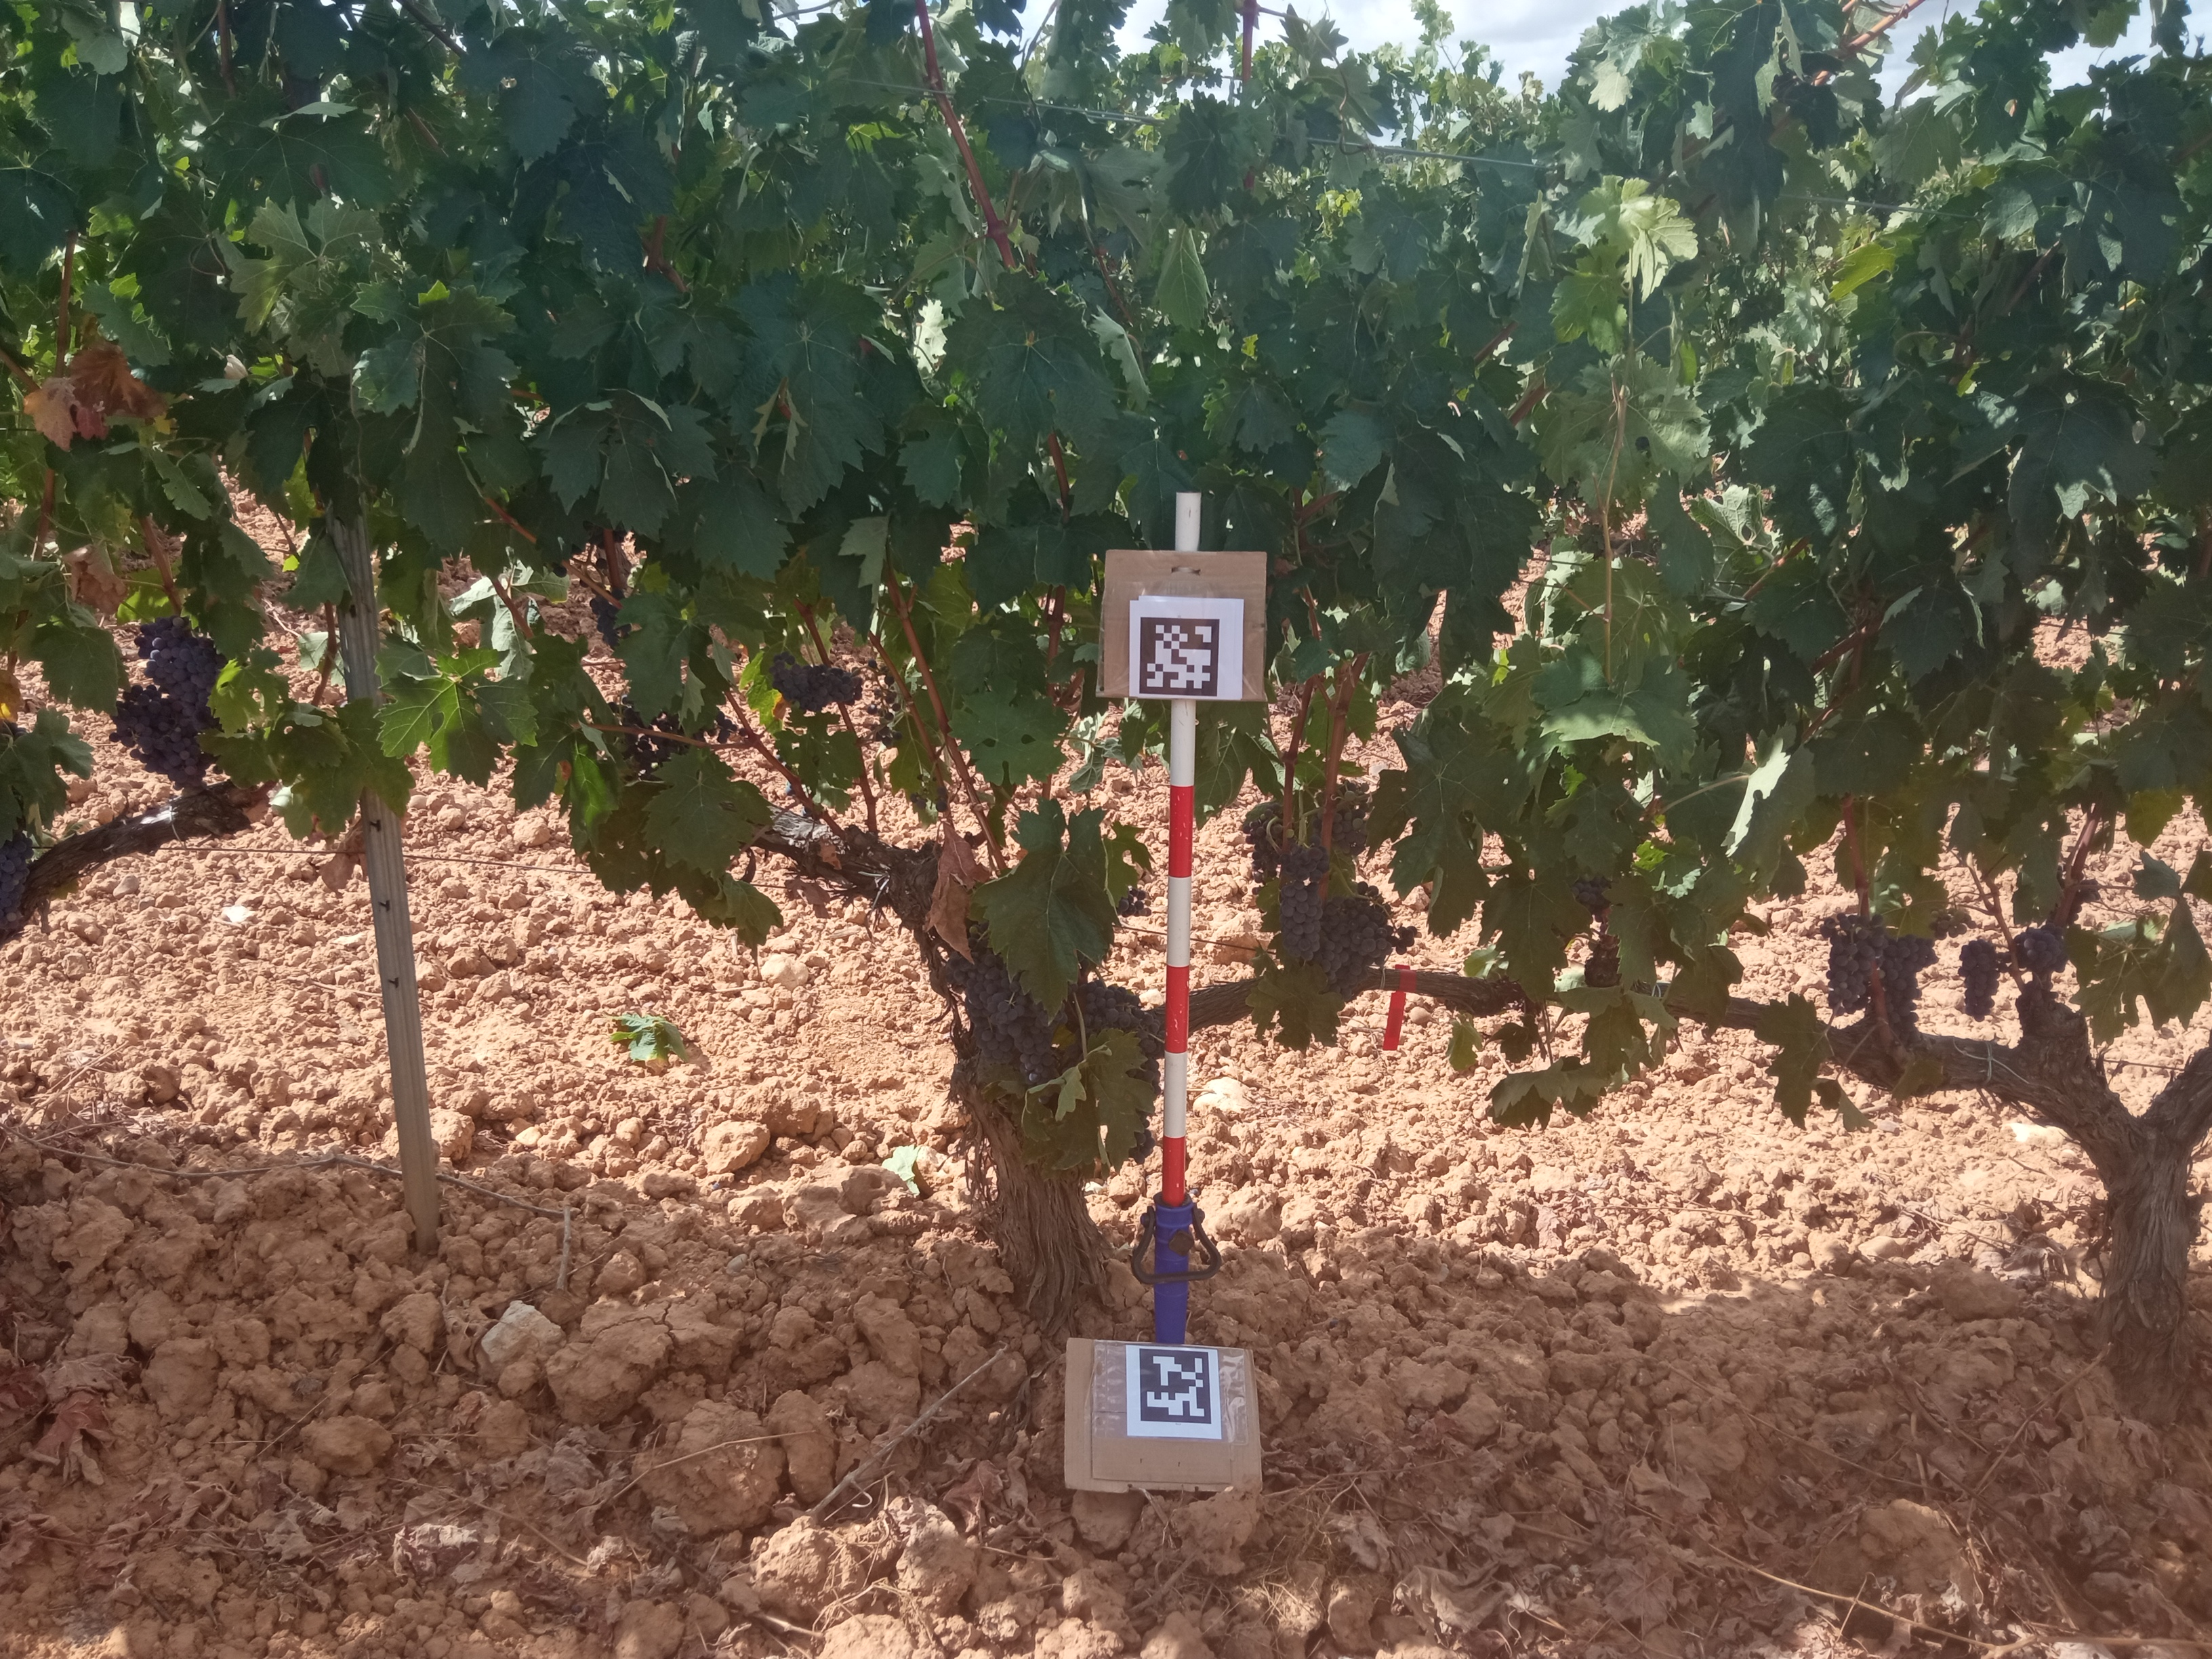grapes: (1318, 878, 1420, 1006), (132, 613, 230, 732), (937, 924, 1015, 1066), (106, 683, 206, 793), (988, 981, 1064, 1089), (1817, 910, 1888, 1019), (1273, 835, 1332, 965), (1876, 931, 1940, 1044), (766, 650, 864, 716), (1069, 979, 1167, 1040), (1312, 777, 1372, 856), (1125, 1040, 1162, 1164), (1956, 934, 2003, 1025), (860, 657, 904, 749), (1242, 802, 1285, 887), (627, 711, 686, 774), (2005, 920, 2071, 976), (0, 831, 35, 931), (571, 521, 632, 573), (587, 589, 634, 650), (2050, 878, 2102, 922), (906, 770, 953, 817), (1568, 870, 1615, 913), (1583, 924, 1620, 979), (691, 711, 749, 744), (1928, 904, 1980, 939), (604, 692, 650, 730), (1113, 885, 1153, 920), (0, 721, 28, 744), (1076, 951, 1106, 972), (2054, 863, 2067, 890), (550, 561, 571, 579)
